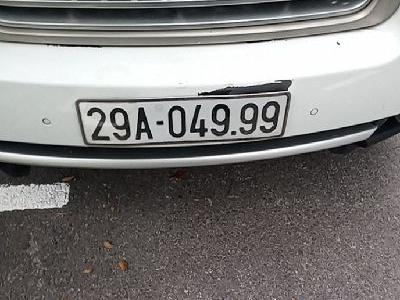lisence: (75, 92, 291, 146)
